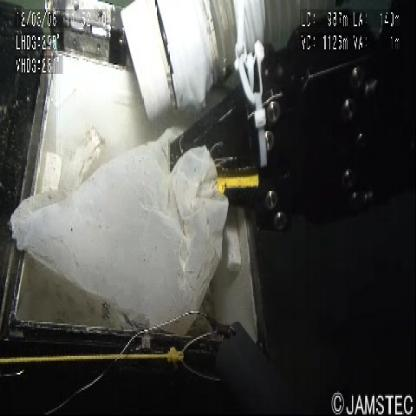Rov: (41, 1, 416, 272)
Rác: (7, 134, 242, 330)
